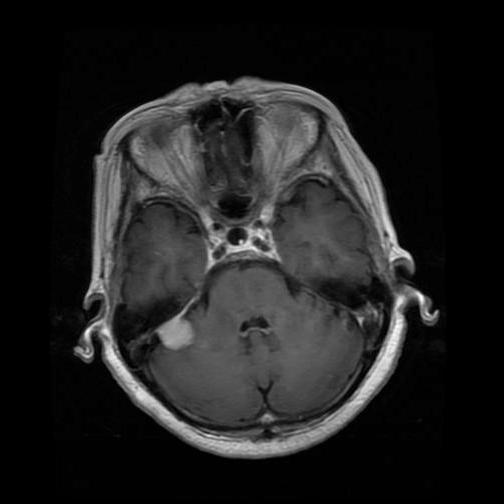Tumour-Meningioma: (143, 315, 211, 362)
